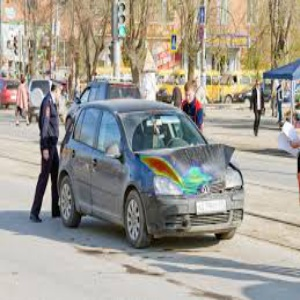door_scratch: (58, 86, 230, 259)
